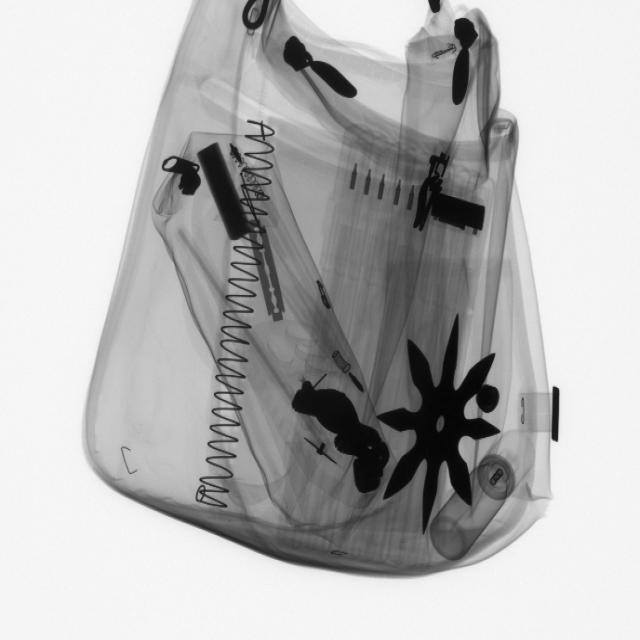BLADE: (249, 211, 288, 328)
SHURIKEN: (380, 309, 505, 536)
